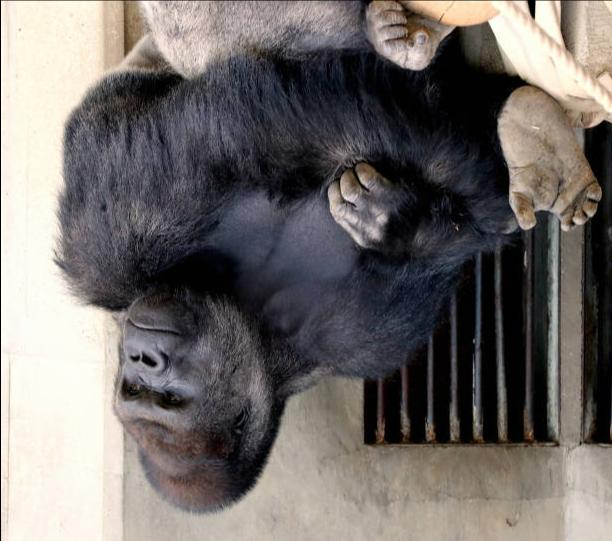gorille_Autres: (32, 0, 601, 541)
